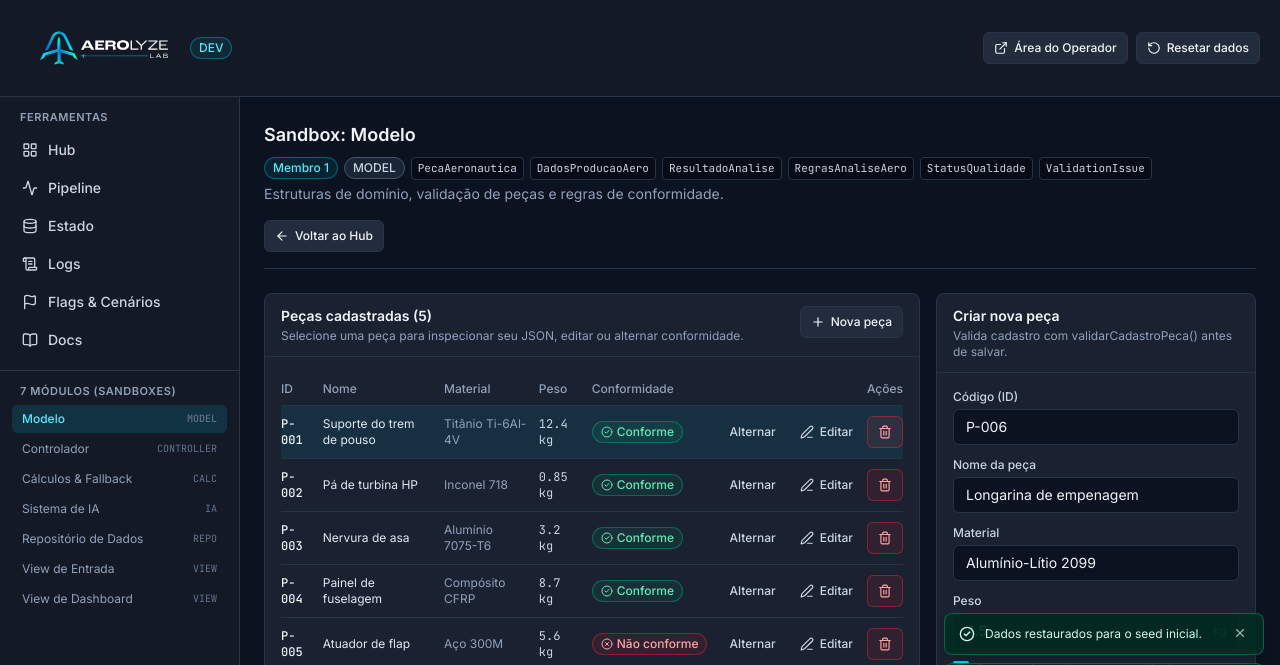
Test: Testes de componentes e integração de fluxo (React Testing Library) › cria, alterna conformidade e edita uma peça no sandbox do Modelo
Expected: the heading "Peças cadastradas (5)" is shown, top-left (281, 306), bottom-right (432, 324)
Click the button "Nova peça".
click(851, 322)  # box top-left (800, 306), bottom-right (903, 338)
(page scrolled)
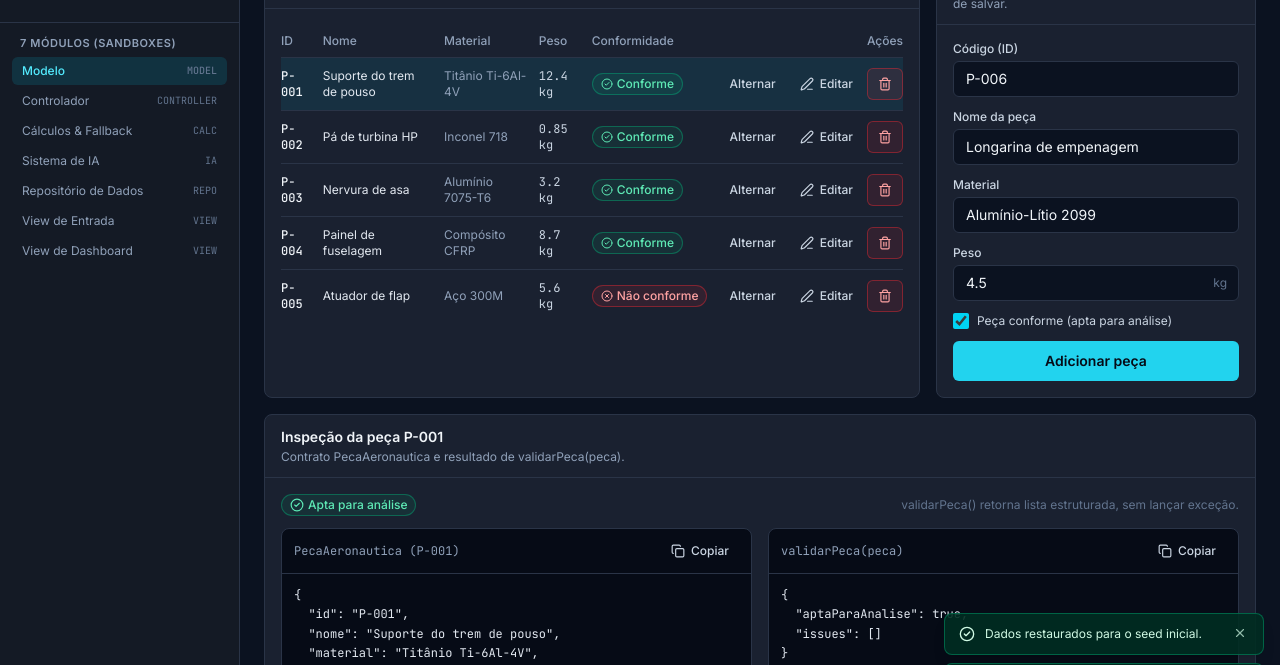
Click the button "Adicionar peça".
click(1096, 360)  # box top-left (953, 340), bottom-right (1239, 380)
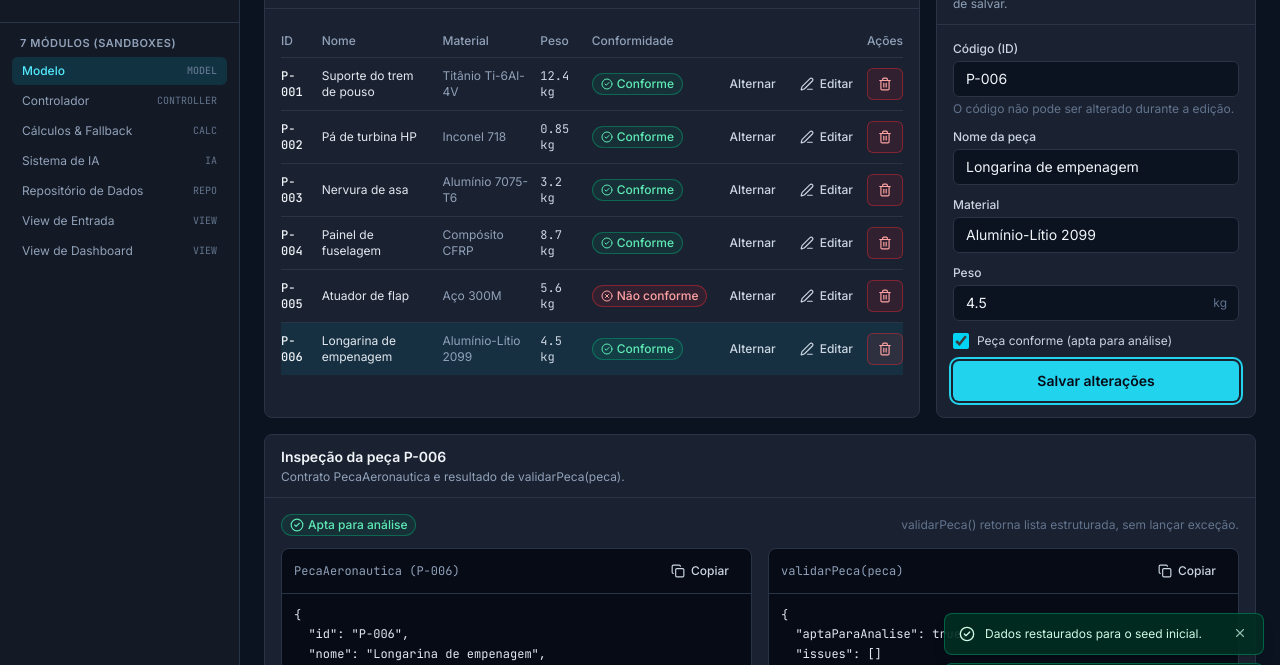
Now the text "P-006" is shown, box top-left (281, 332), bottom-right (303, 364)
Click the button with aria-label "Alternar conformidade de P-006".
click(753, 348)  # box top-left (720, 332), bottom-right (786, 364)
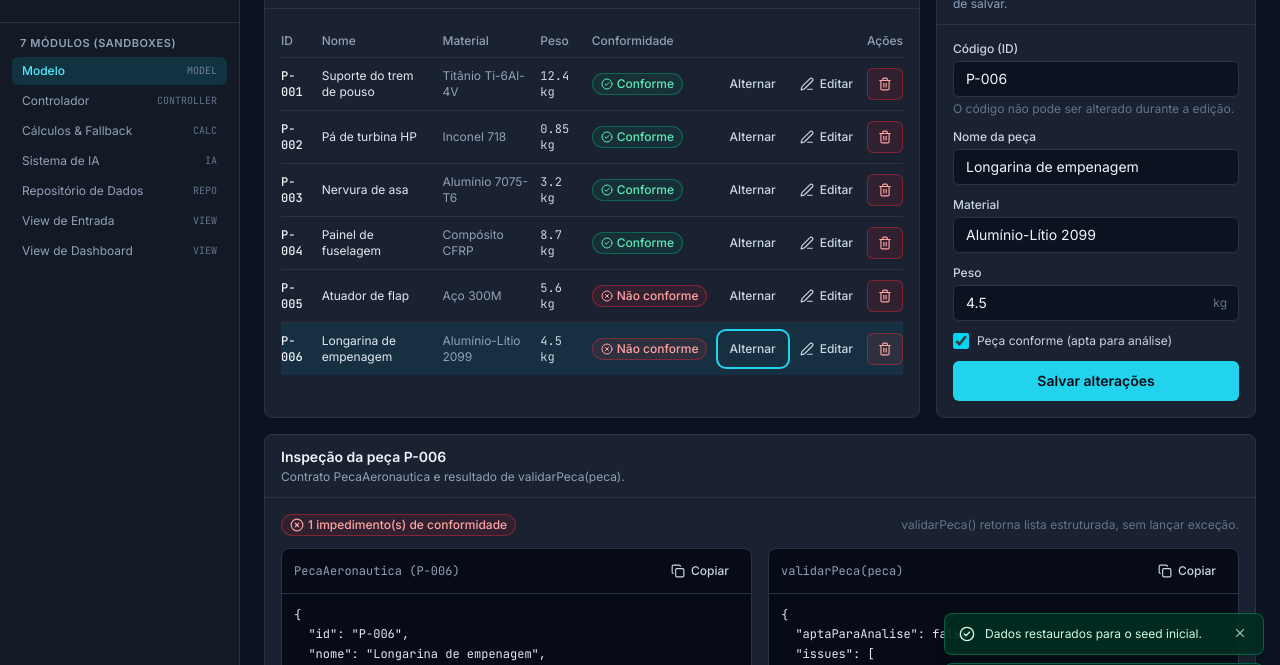
Now the 2nd text "Não conforme" is shown, box top-left (592, 338), bottom-right (708, 360)
Click the button with aria-label "Editar P-006".
click(826, 348)  # box top-left (790, 332), bottom-right (863, 364)
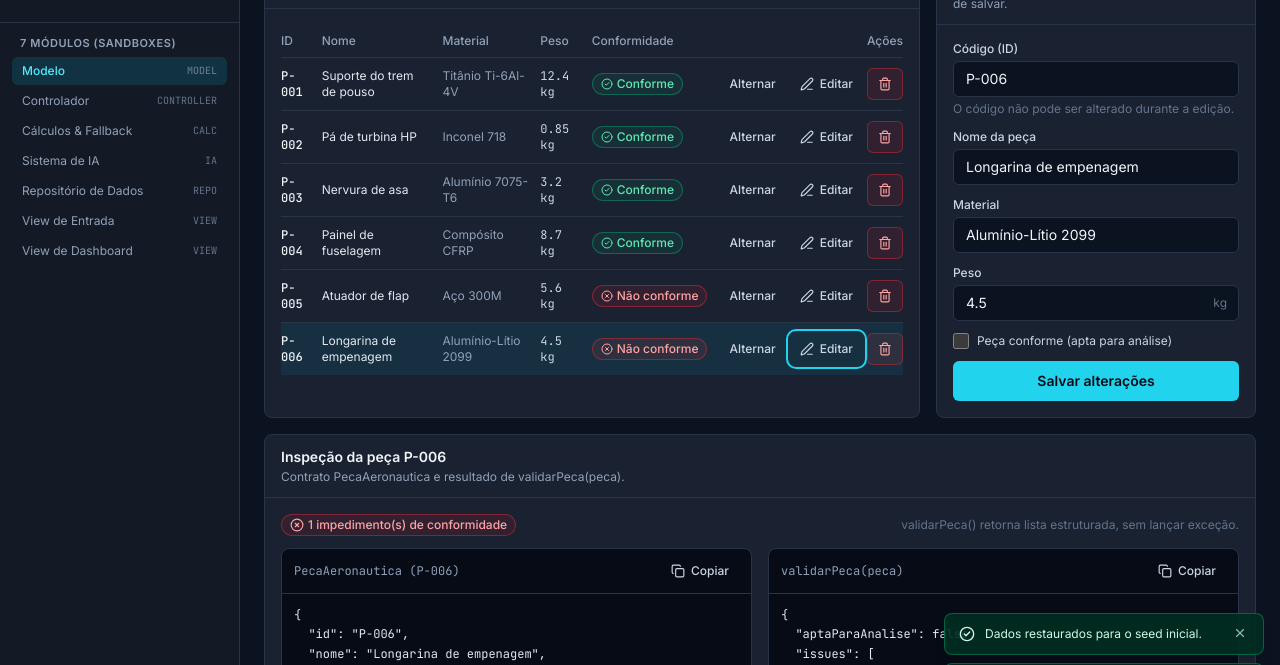
Replace the text in the field labelled "Nome da peça" with "Peça editada" at [1096, 166], box top-left (953, 148), bottom-right (1239, 184)
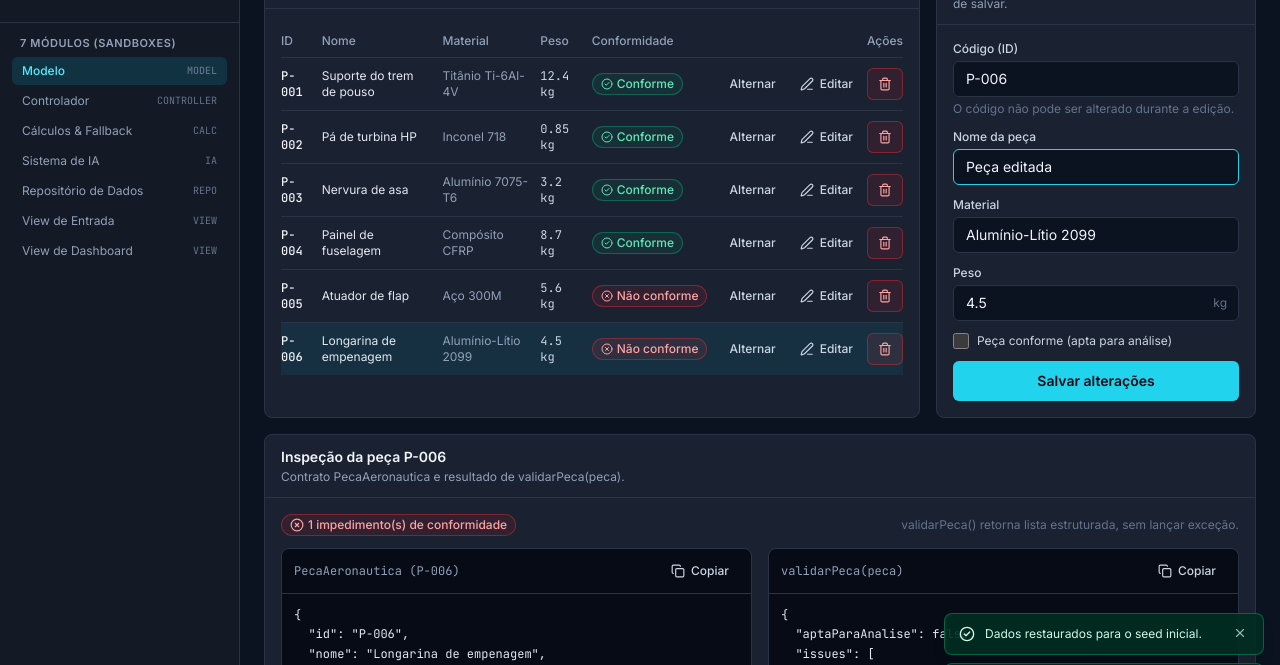
Click the button "Salvar alterações".
click(1096, 380)  # box top-left (953, 360), bottom-right (1239, 400)
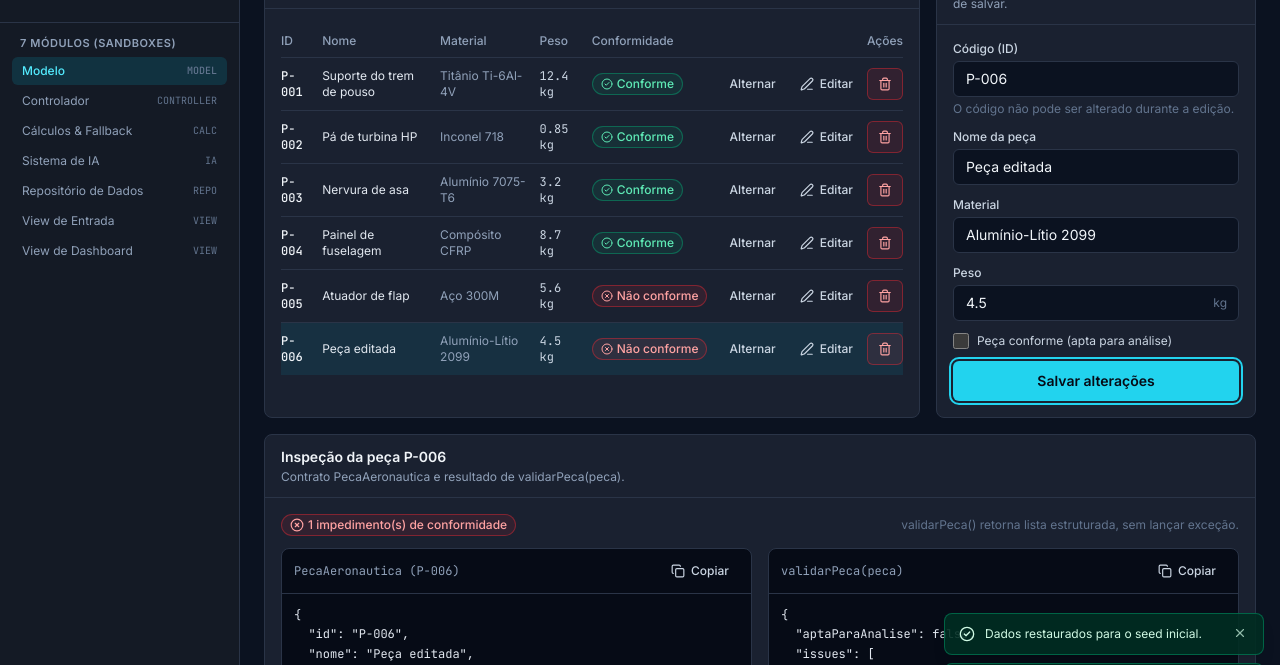
Now the text "Peça editada" is shown, box top-left (322, 322), bottom-right (440, 374)
